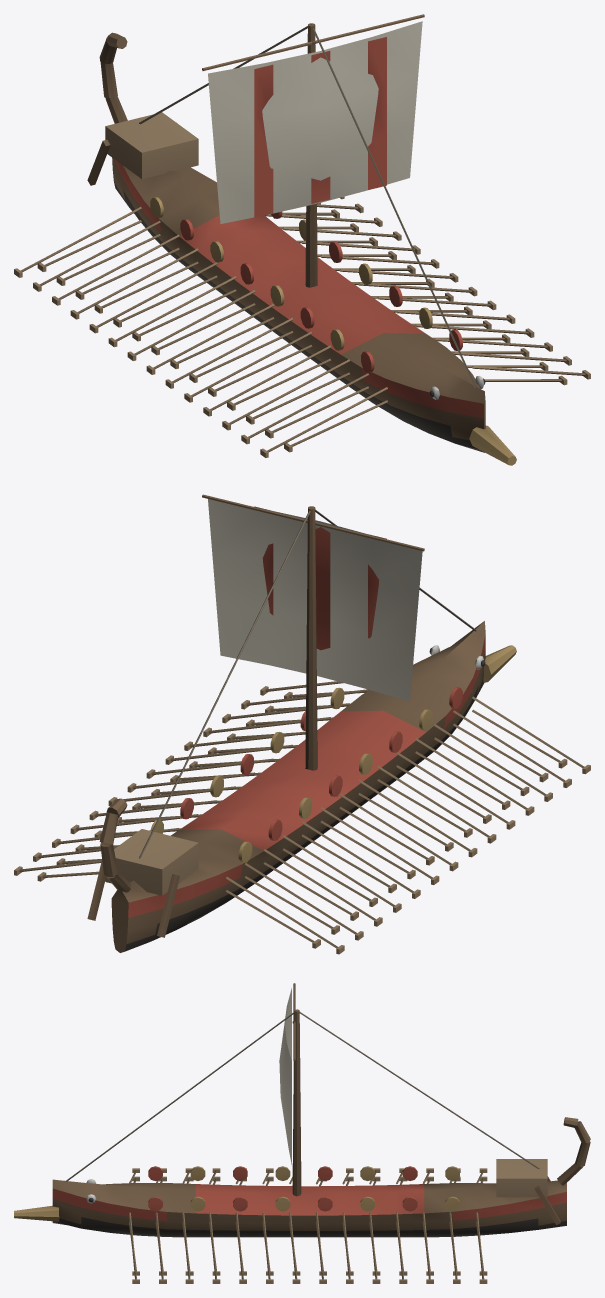
The model's file is galley.glb.
The picture shows the model from 3 angles, top to bottom: view 1: azimuth 30°, elevation 25°; view 2: azimuth 150°, elevation 25°; view 3: azimuth 270°, elevation 25°; orthographic projection. The views are drawn at different scales.
Visible parts, largest first — view 1: Body; view 2: Body; view 3: Body.
Boxes of the visible parts, x1=… form: Body: x1=14, y1=14, x2=590, y2=465; Body: x1=14, y1=494, x2=590, y2=954; Body: x1=14, y1=983, x2=590, y2=1283.
Size of the model in its own units: 2.06 by 1.89 by 4.49.
